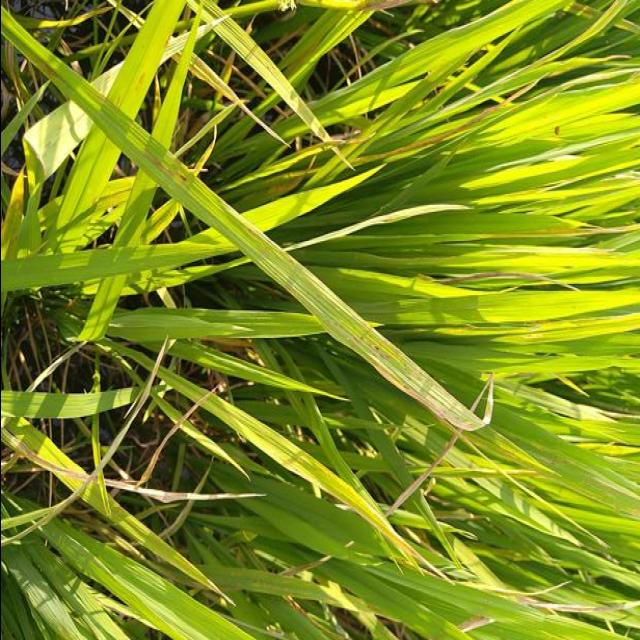Leaf Streak: (338, 316, 491, 431), (145, 155, 186, 181)
